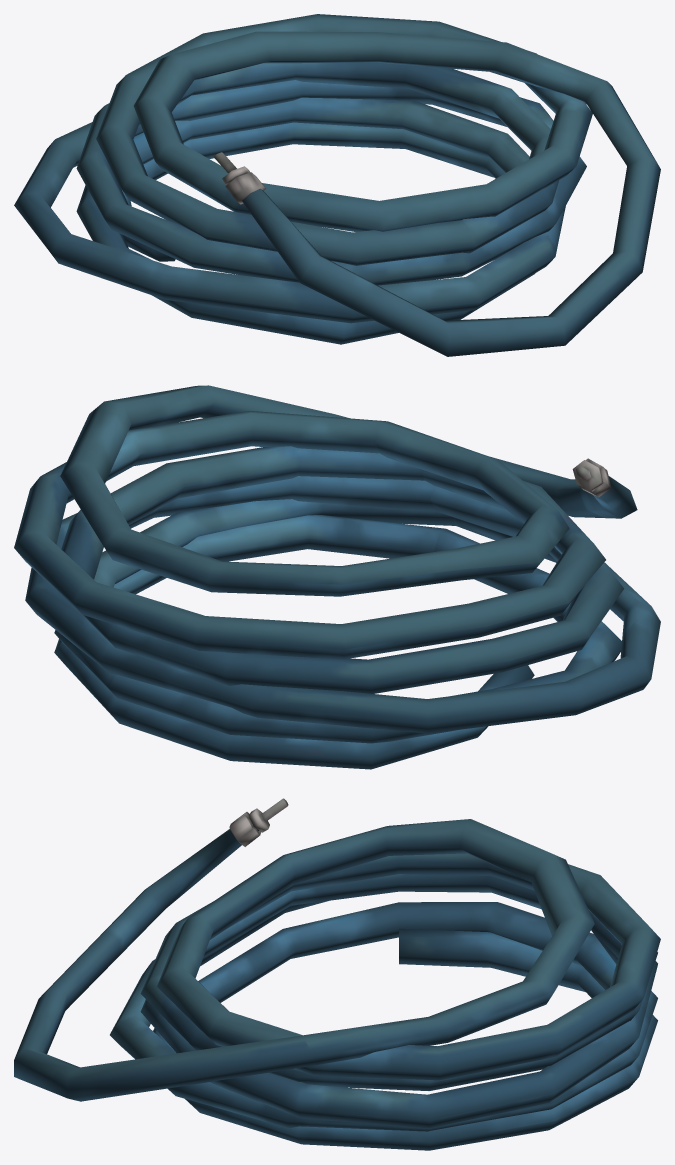
The model's file is Hose.fbx.
The picture shows the model from 3 angles, top to bottom: view 1: azimuth 30°, elevation 25°; view 2: azimuth 150°, elevation 25°; view 3: azimuth 270°, elevation 25°; orthographic projection. The views are drawn at different scales.
Parts seen in each view (by area): view 1: Hose_low; view 2: Hose_low; view 3: Hose_low.
Part boxes in pixels (x1,y1,x2,y2): Hose_low: [14, 14, 660, 356]; Hose_low: [14, 385, 660, 769]; Hose_low: [14, 798, 660, 1150].
Bounding box in the file's own units: 1.17 × 0.371 × 1.18.
